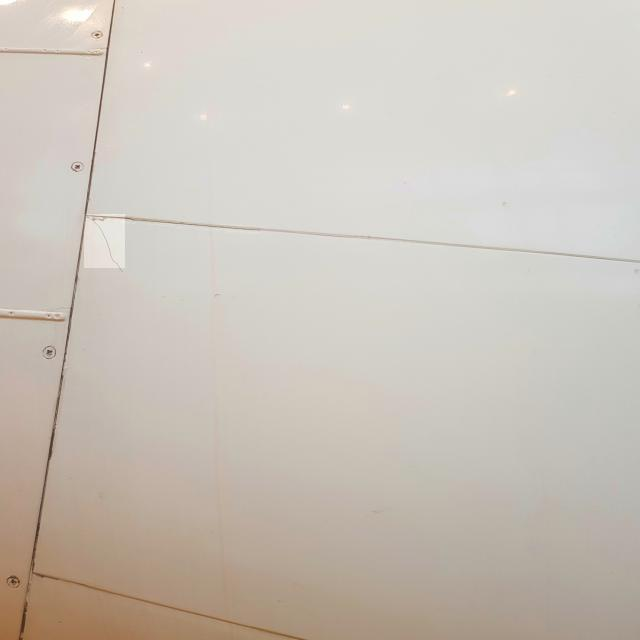crack: (85, 215, 126, 269)
